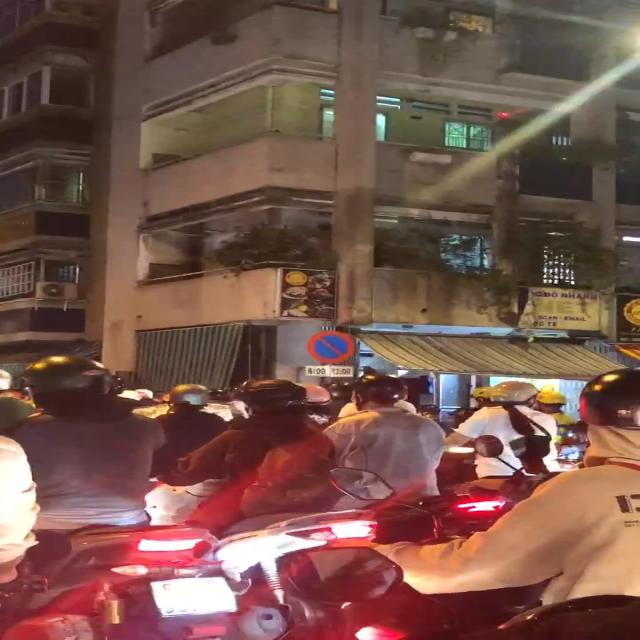Bien bao cam do xe: (304, 328, 360, 366)
